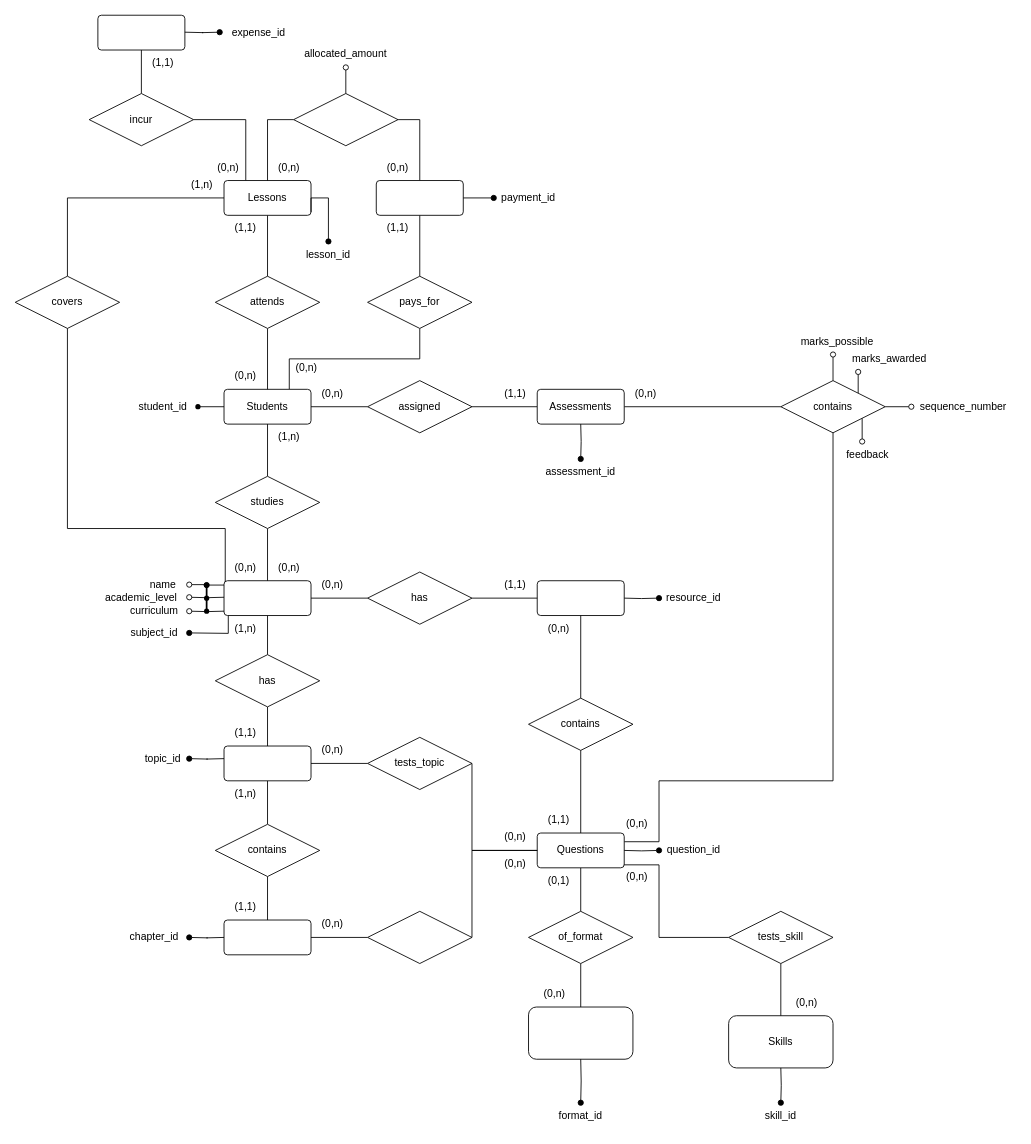
The diagram is 1031 pixels wide and 1144 high, and some of its shapes have lost their labels. Here are the shapes that lost their labels. From the top down, the centre of each, then its label:
(x=141, y=32): Expenses
(x=345, y=119): allocated_to
(x=419, y=197): Payments
(x=267, y=598): Subjects
(x=580, y=598): Resources
(x=267, y=763): Topics
(x=267, y=937): Chapters
(x=419, y=937): tests_chapter
(x=580, y=1032): Question_formats
